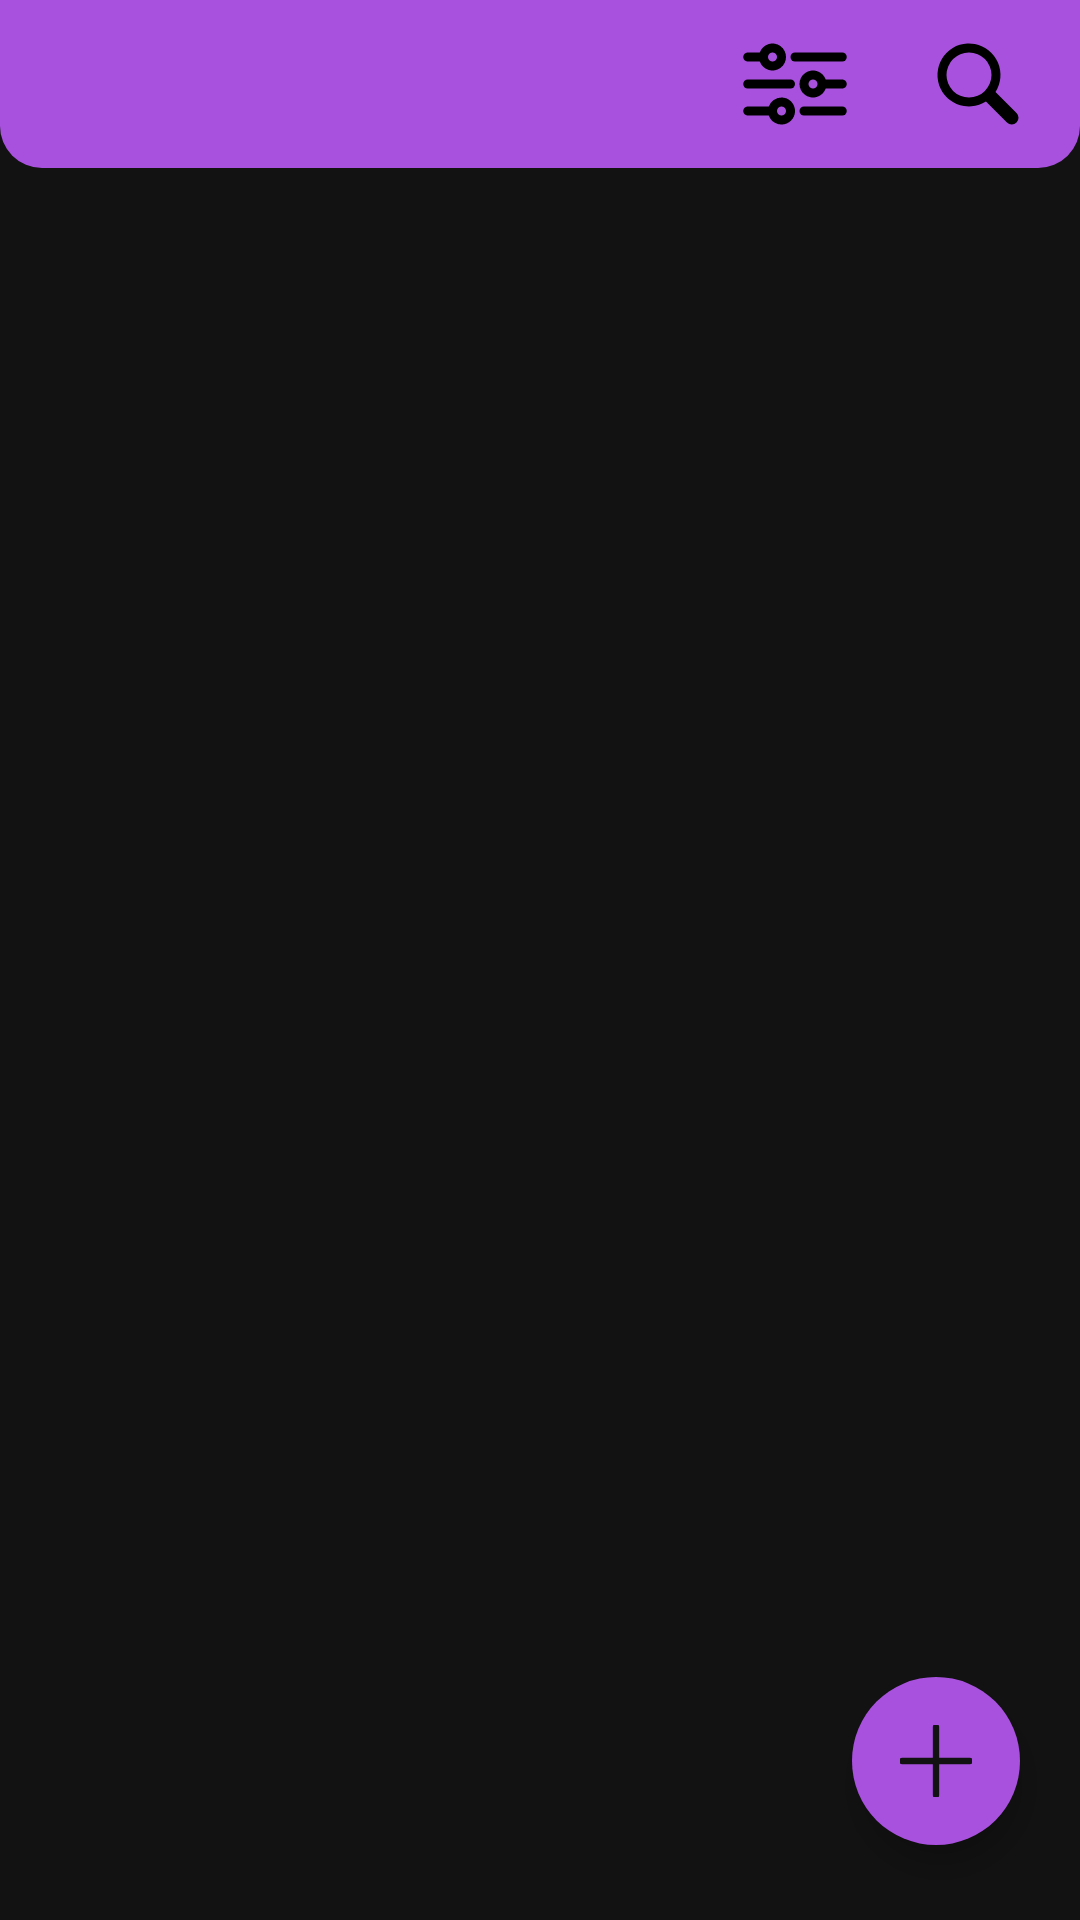

Locate icon controls on the screen. Image size 1080x1920, boxes as box(x1, y1, x2, y2).
Добавить фильм: box(852, 1677, 1020, 1845)
Поиск: box(937, 43, 1019, 125)
Фильтр: box(743, 43, 847, 125)
